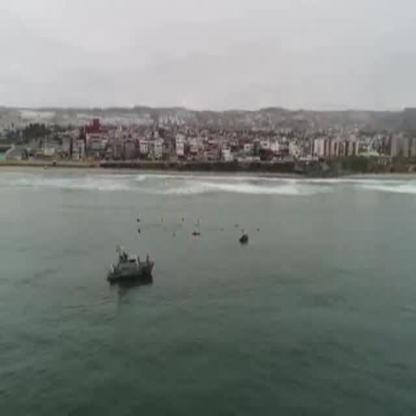Boat: (105, 245, 153, 292)
